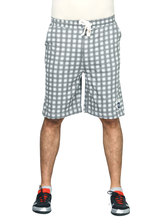clothoes: (41, 16, 132, 121)
shoes: (101, 185, 135, 219), (25, 187, 61, 219)
